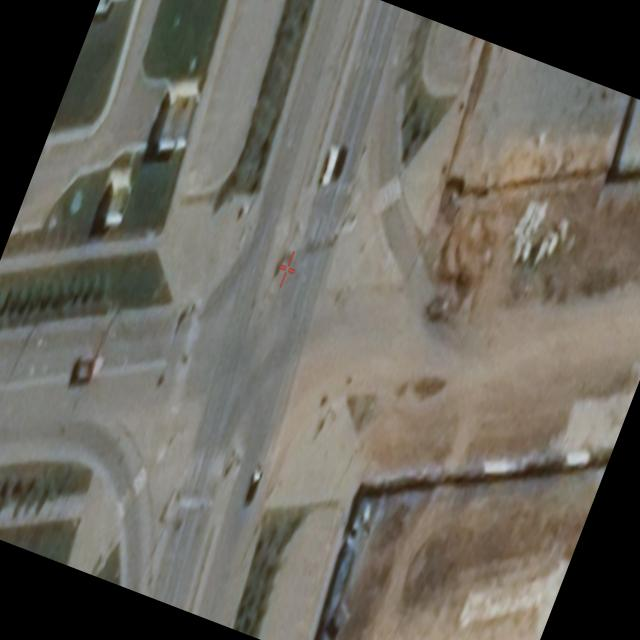crack: (406, 363, 447, 404), (306, 232, 335, 257), (221, 452, 239, 479), (171, 312, 187, 340), (272, 259, 288, 286)
old_road: (277, 301, 640, 494)
road: (0, 0, 429, 628)
